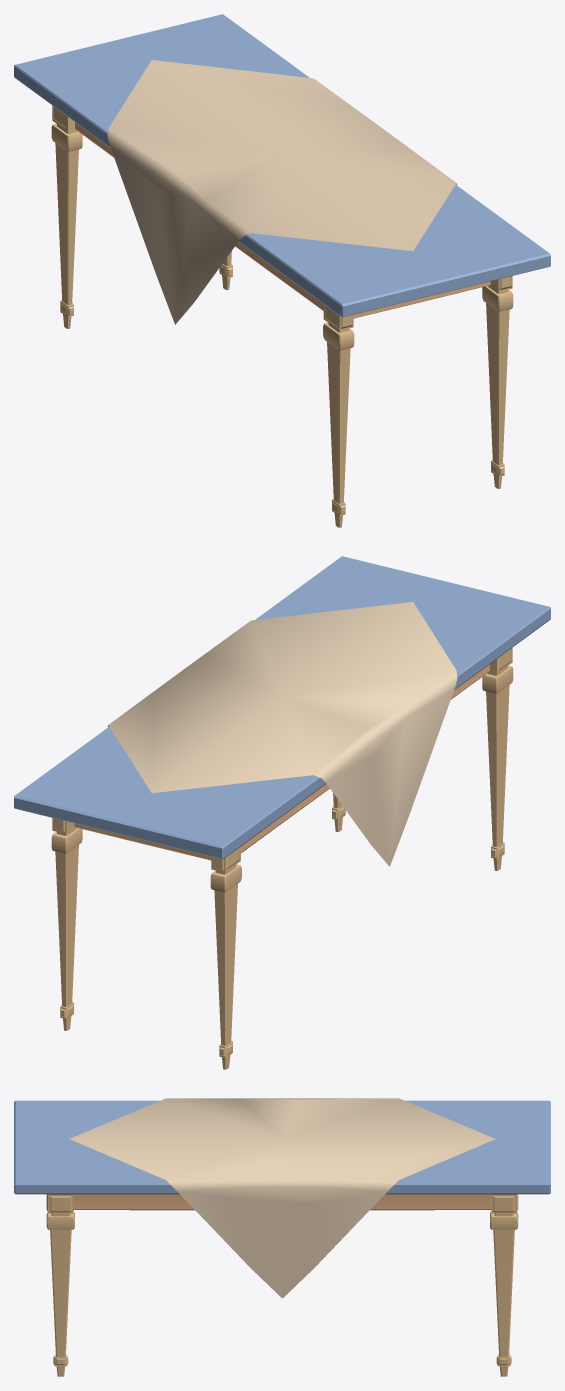
The model's file is TableCouloir3.fbx.
The picture shows the model from 3 angles, top to bottom: view 1: azimuth 30°, elevation 25°; view 2: azimuth 150°, elevation 25°; view 3: azimuth 270°, elevation 25°; orthographic projection. The views are drawn at different scales.
Parts seen in each view (by area): view 1: SM_Table001; view 2: SM_Table001; view 3: SM_Table001.
Part boxes in pixels (left/top/right/bottom): SM_Table001: left=14, top=14, right=550, bottom=527; SM_Table001: left=14, top=556, right=550, bottom=1069; SM_Table001: left=14, top=1098, right=550, bottom=1376.
Size of the model in its own units: 0.6366 by 0.7111 by 1.68.
